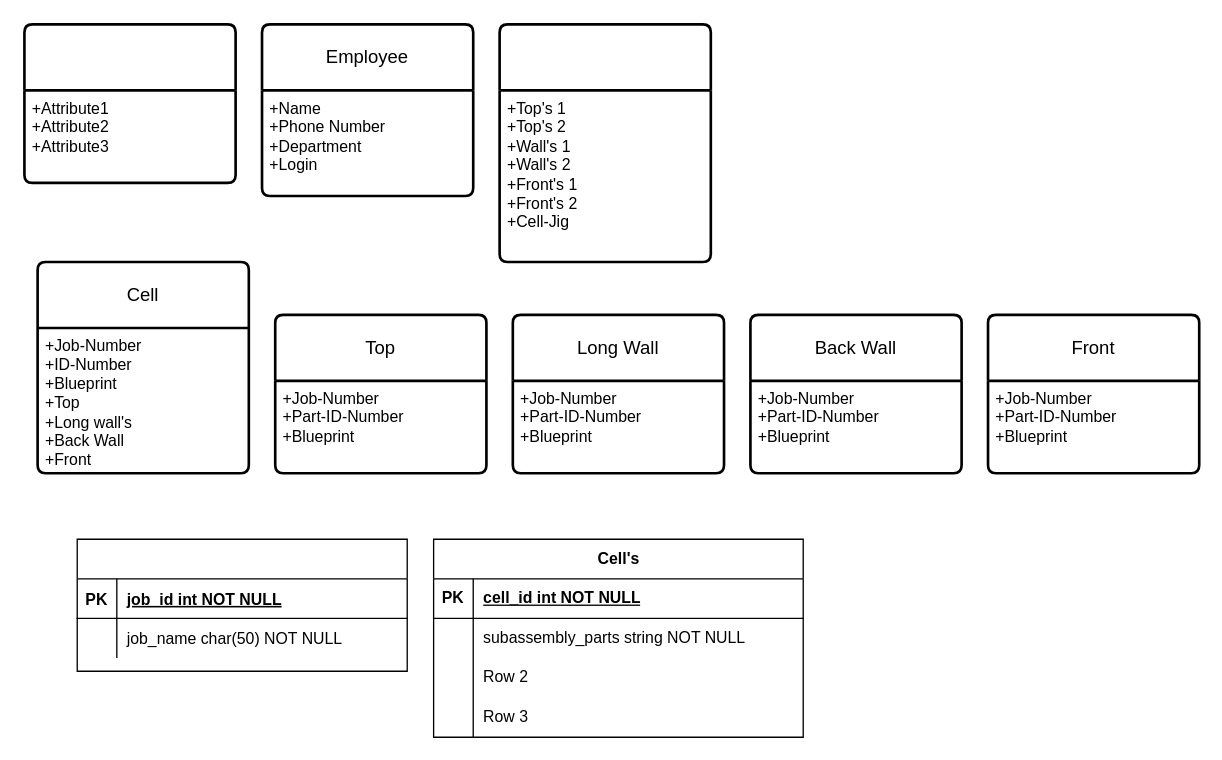
The diagram is 1222 pixels wide and 760 high, and some of its shapes have lost their labels. Here are the shapes that lost their labels. From the top down, the box of each, then its label:
(22, 22, 236, 183): Customer
(498, 22, 711, 263): Weld Shop
(76, 538, 407, 671): Jobs
